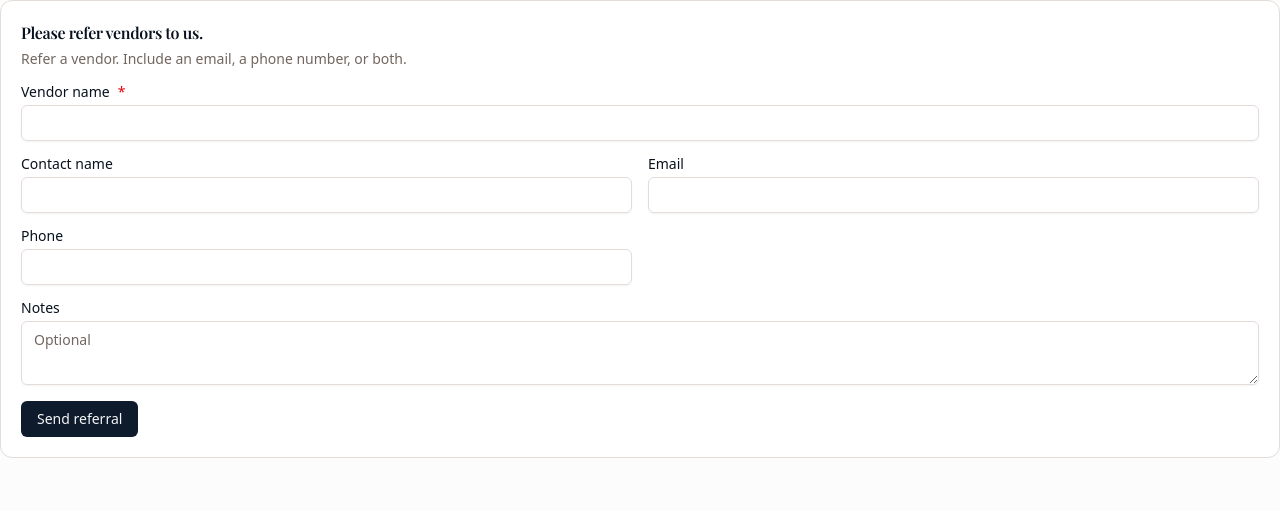
Scenario: ReferVendorForm › shows the mutation error and keeps the entered referral
The image size is (1280, 511).
Step 1. Type "Northwind Cabinets" into the field labelled "Vendor name *" → (640, 123), box [21,105,1259,141]
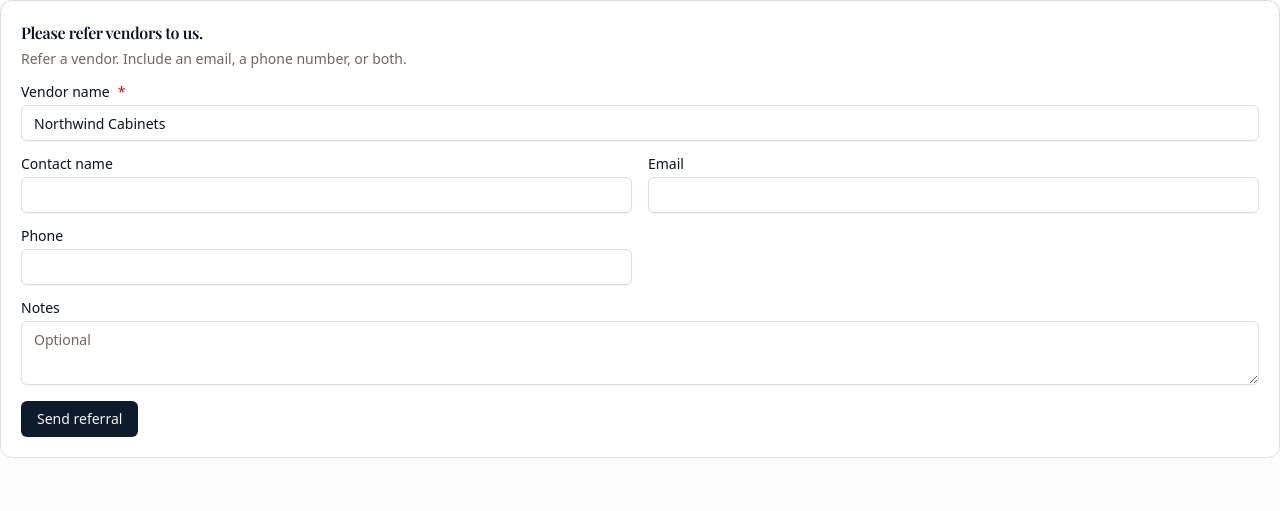
Step 2. Type "555-0100" into the field labelled "Phone" → (326, 267), box [21,249,632,285]
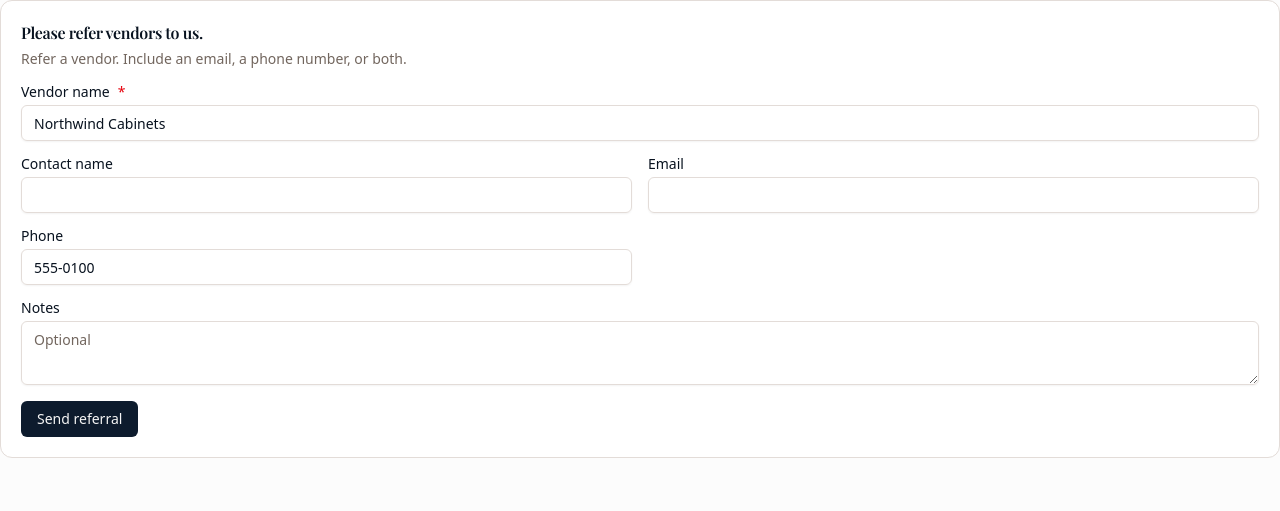
Step 3. Click the button "Send referral" → click(80, 419), box [21,401,138,437]
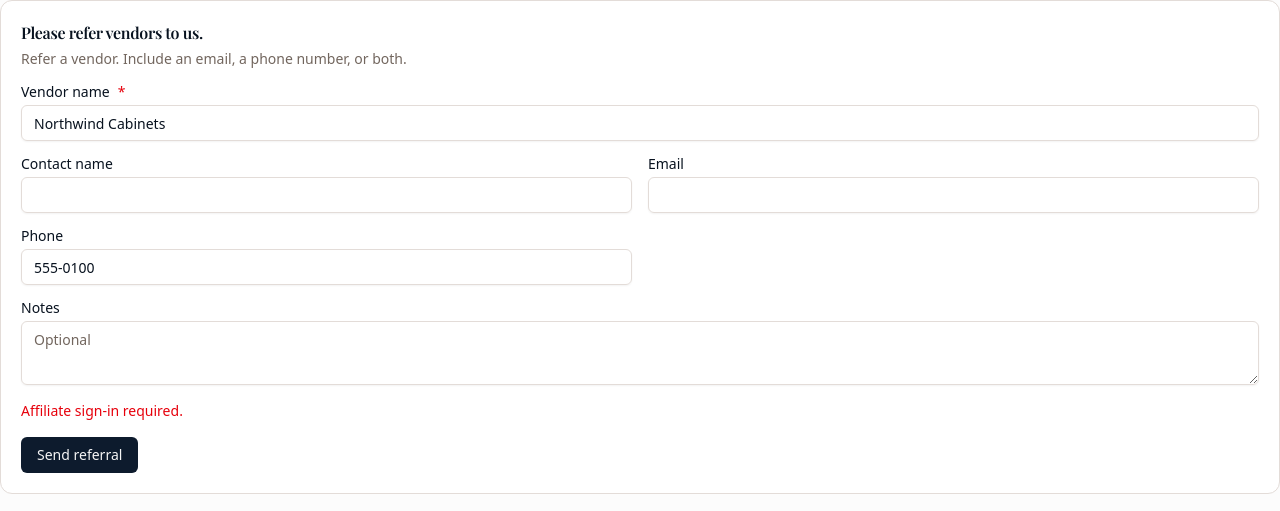
Expected: the message reads "Affiliate sign-in required.", [21,401,183,420]
